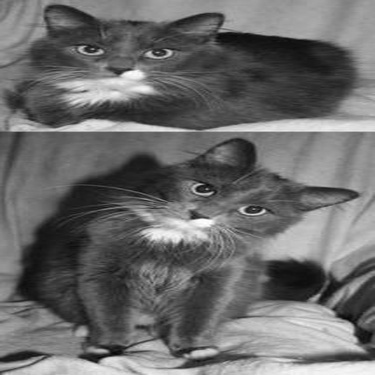cat: (14, 136, 364, 363), (6, 7, 358, 126)
